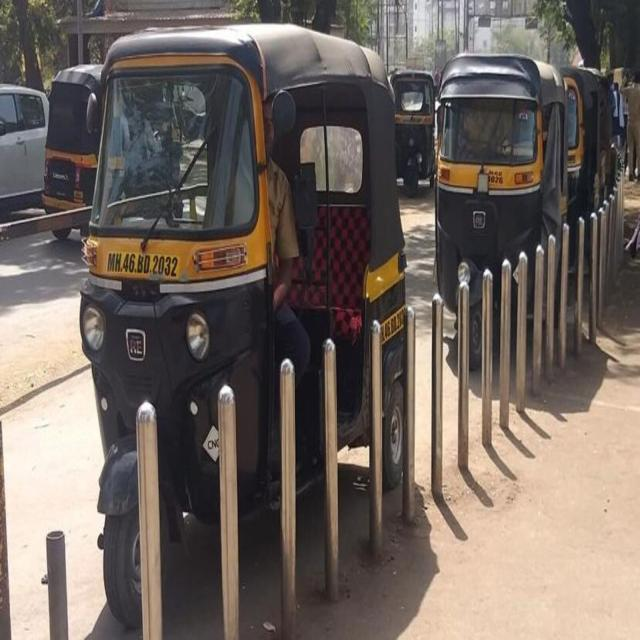autorickshaw: (80, 24, 405, 626), (435, 53, 569, 359), (561, 67, 615, 230), (42, 65, 101, 214), (391, 69, 435, 194)
car: (0, 85, 49, 210)
